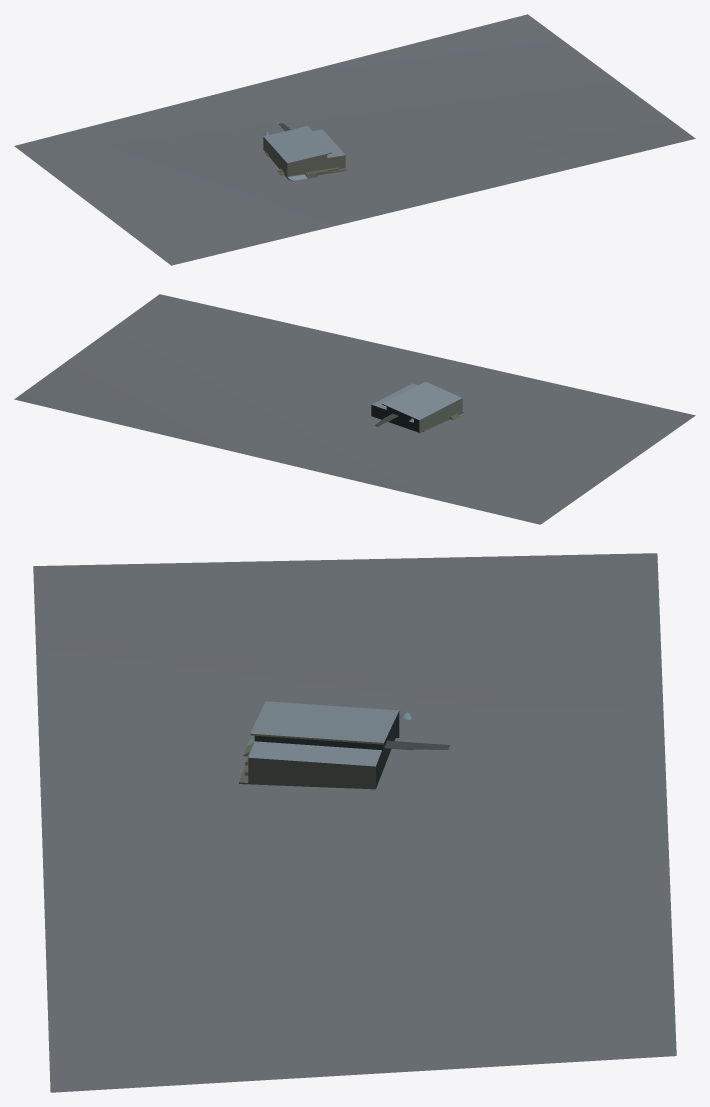
The model's file is outdoor-chattanooga.glb.
3 views of the same model, one above another, from view 1: azimuth 30°, elevation 25°; view 2: azimuth 150°, elevation 25°; view 3: azimuth 270°, elevation 25° (orthographic). The views are drawn at different scales.
Parts seen in each view (by area): view 1: LOD0; view 2: LOD0; view 3: LOD0.
Part boxes in pixels (x1,y1,x2,y2): LOD0: (14, 14, 695, 265); LOD0: (14, 294, 695, 524); LOD0: (33, 553, 676, 1092).
Size of what is drawn, in the model's own units: 234 by 11.06 by 123.
1 material, 1 textured.
